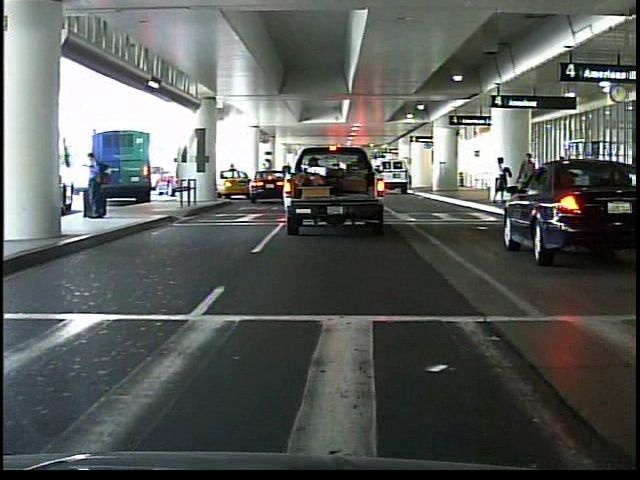person: (83, 150, 114, 229), (489, 155, 515, 211), (515, 150, 539, 208)
